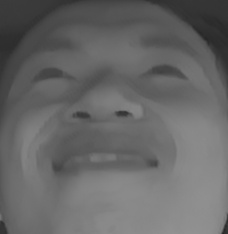eye: (24, 60, 78, 88), (140, 58, 188, 84)
mouth: (43, 127, 164, 193)
